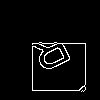R: (25, 25, 79, 82)
